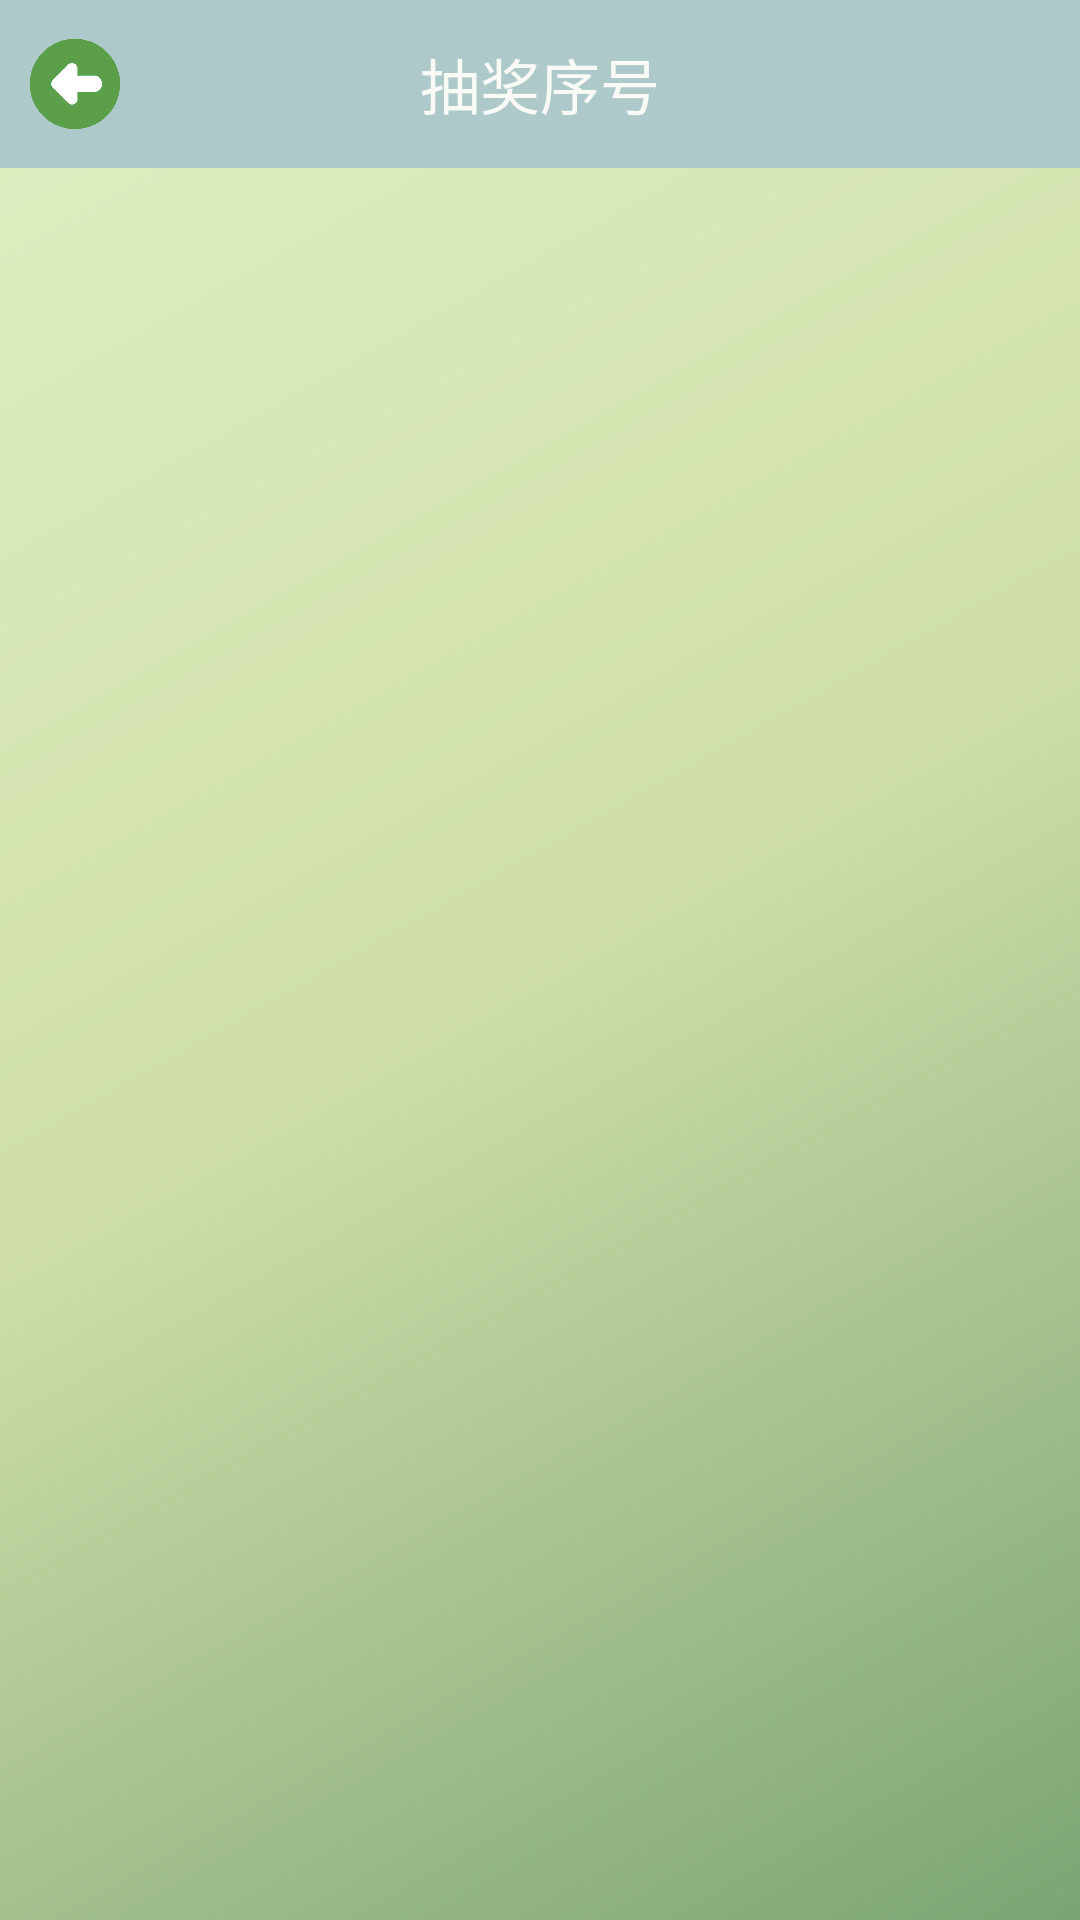

Icon bounding boxes for this 1080 × 1920 phone screenshot, format (x1=x1, y1=y1, x2=x2, y2=y2):
back: (x1=30, y1=39, x2=120, y2=129)
